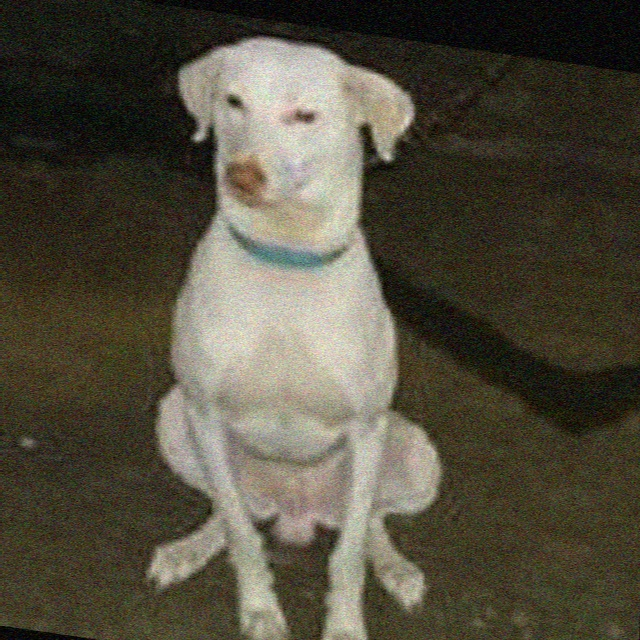dog: (145, 33, 538, 640), (608, 100, 640, 640)
